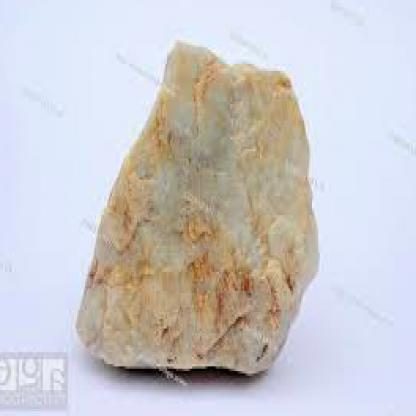Metamorphic_Quartize: (71, 28, 321, 374)
